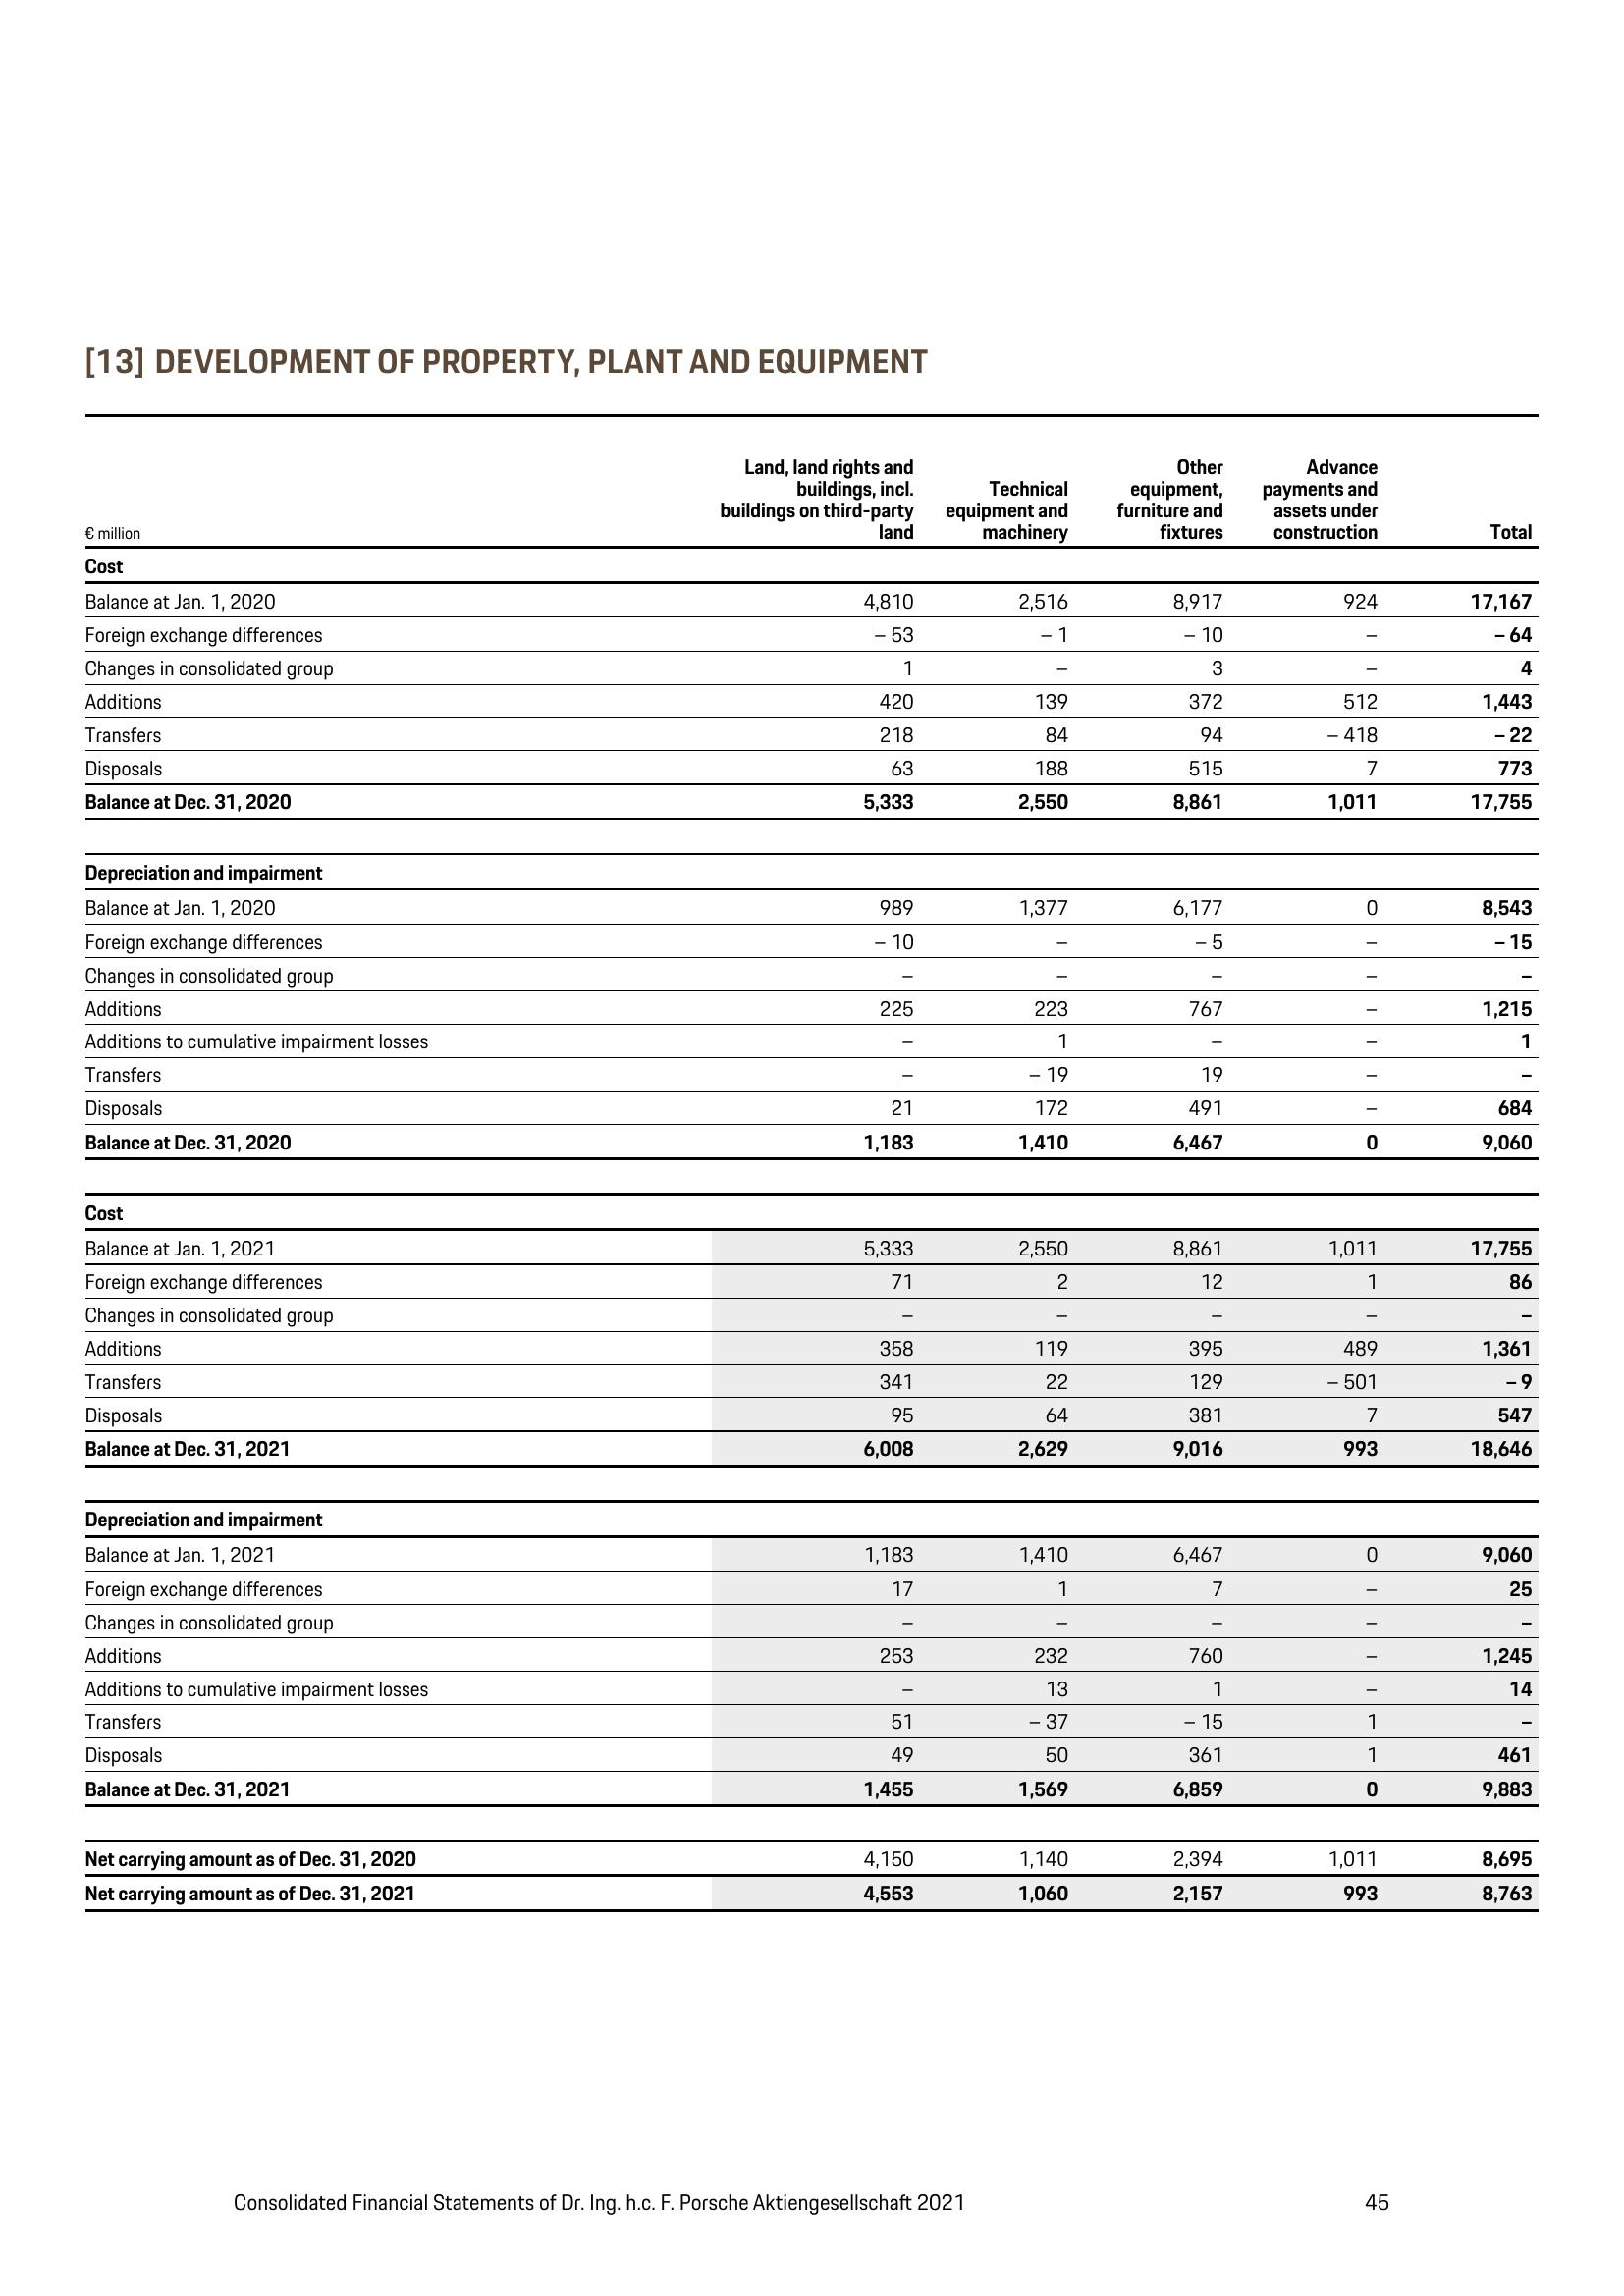Footer: (0, 2140, 1624, 2296)
Header: (0, 0, 1624, 214)
Table: (60, 402, 1559, 1946)
